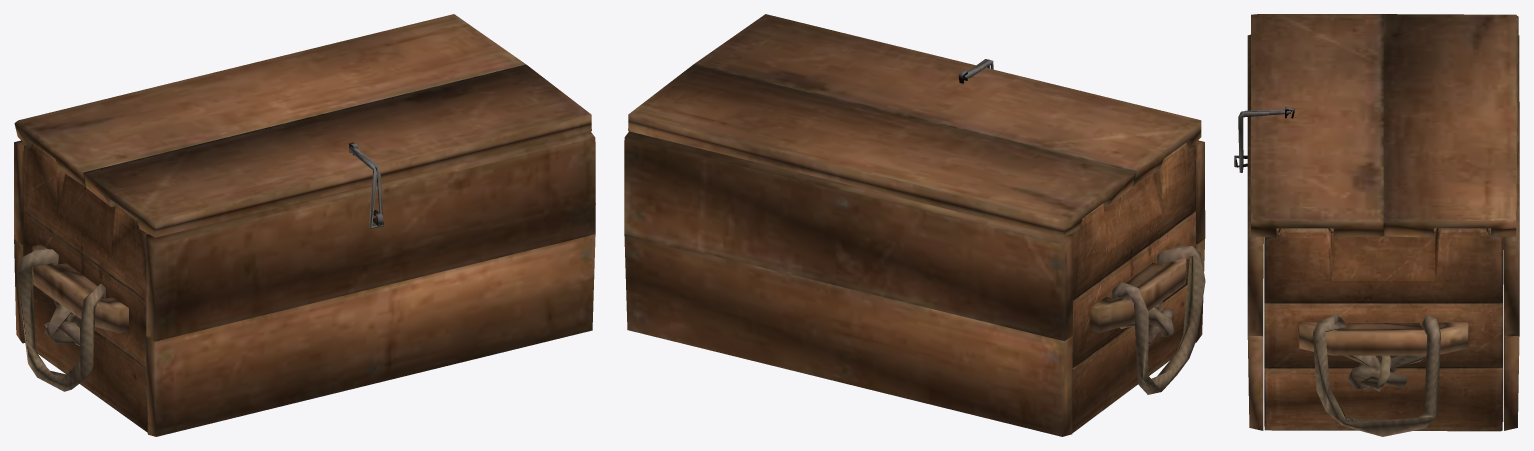
File: wooden_crate_01.glb
3 views of the same model, side by side, from view 1: azimuth 30°, elevation 25°; view 2: azimuth 150°, elevation 25°; view 3: azimuth 270°, elevation 25° (orthographic). The views are drawn at different scales.
Parts seen in each view (by area): view 1: wooden_crate_01_lid; view 2: wooden_crate_01_lid; view 3: wooden_crate_01_lid.
Part boxes in pixels (x1,y1,x2,y2): wooden_crate_01_lid: [14, 14, 595, 436]; wooden_crate_01_lid: [624, 14, 1205, 436]; wooden_crate_01_lid: [1234, 14, 1519, 436].
Bounding box in the file's own units: 0.8245 × 0.3469 × 0.4043.
1 material, 1 textured.
